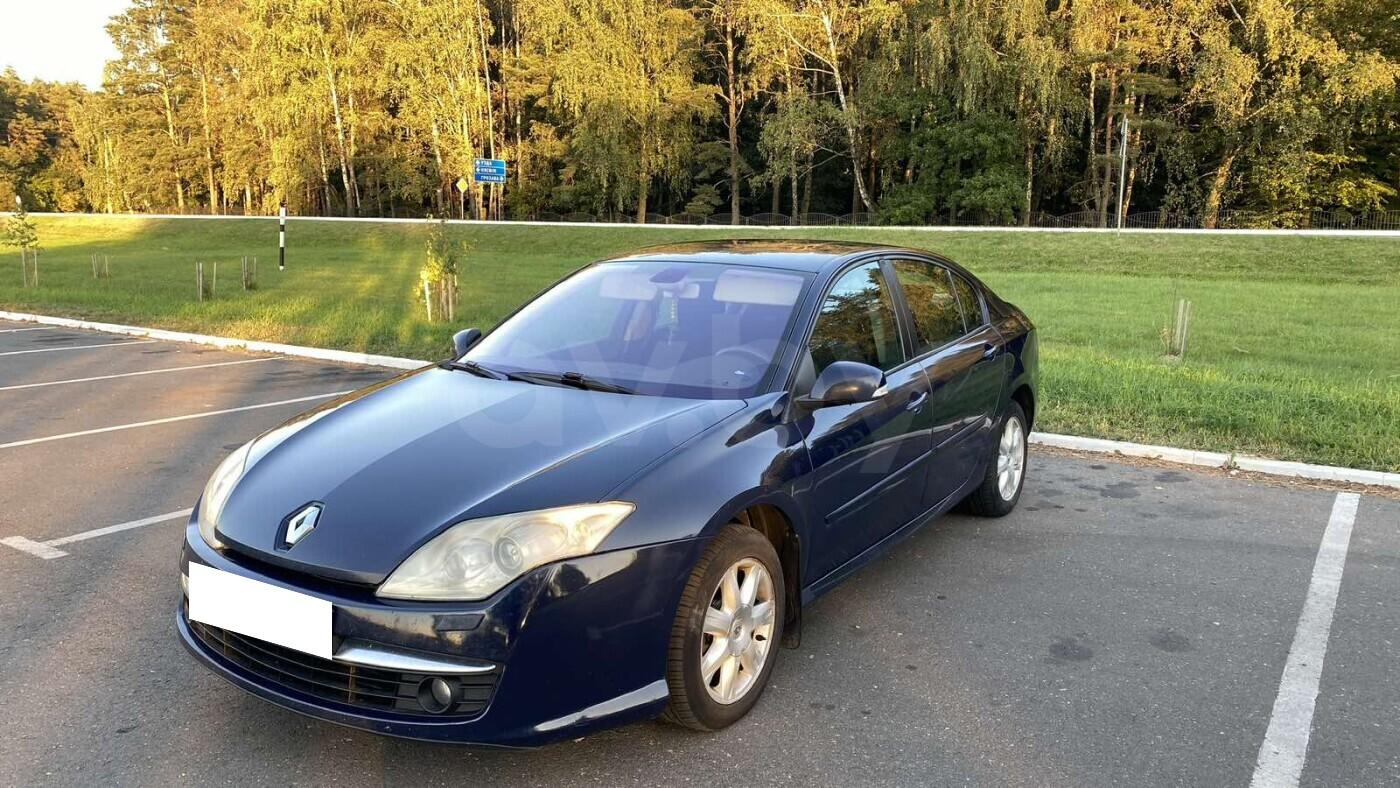Laguna_2007-2011: (176, 240, 1045, 745)
